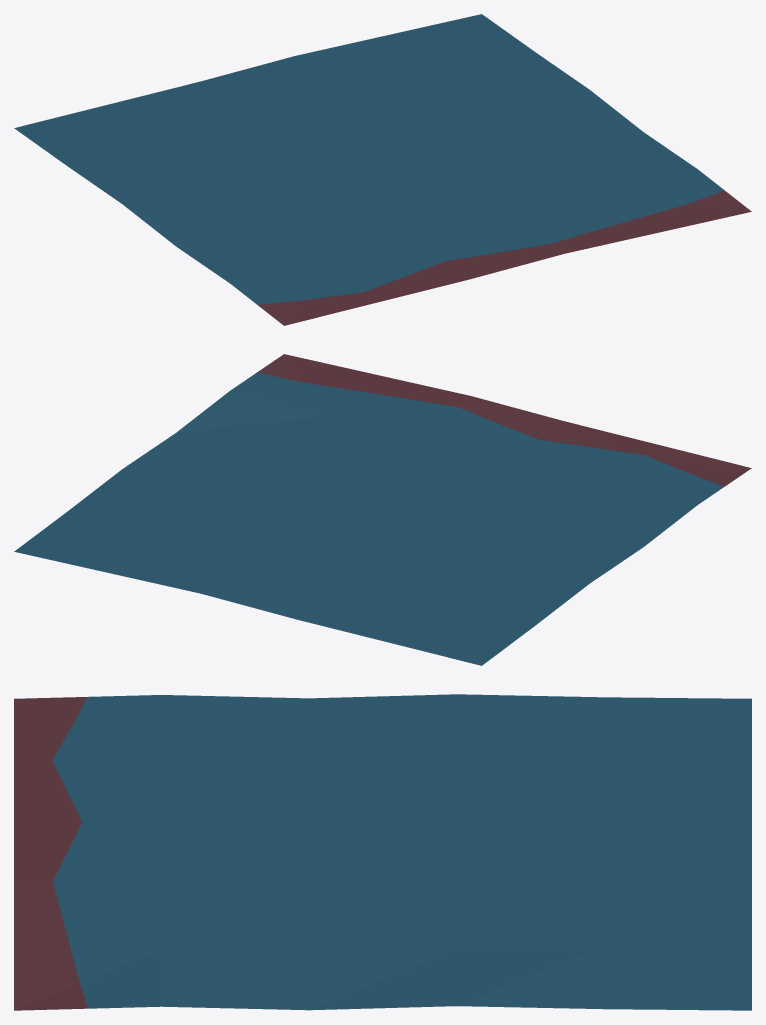
The model's file is terrain-plane-water-foam.fbx.
3 views of the same model, one above another, from view 1: azimuth 30°, elevation 25°; view 2: azimuth 150°, elevation 25°; view 3: azimuth 270°, elevation 25° (orthographic). The views are drawn at different scales.
Parts seen in each view (by area): view 1: terrain-plane-water-foam; view 2: terrain-plane-water-foam; view 3: terrain-plane-water-foam.
Part boxes in pixels (x1=…): terrain-plane-water-foam: x1=14, y1=14, x2=751, y2=325; terrain-plane-water-foam: x1=14, y1=354, x2=751, y2=665; terrain-plane-water-foam: x1=14, y1=694, x2=751, y2=1010.
Size of the model in its own units: 20 by 0.1769 by 20.
